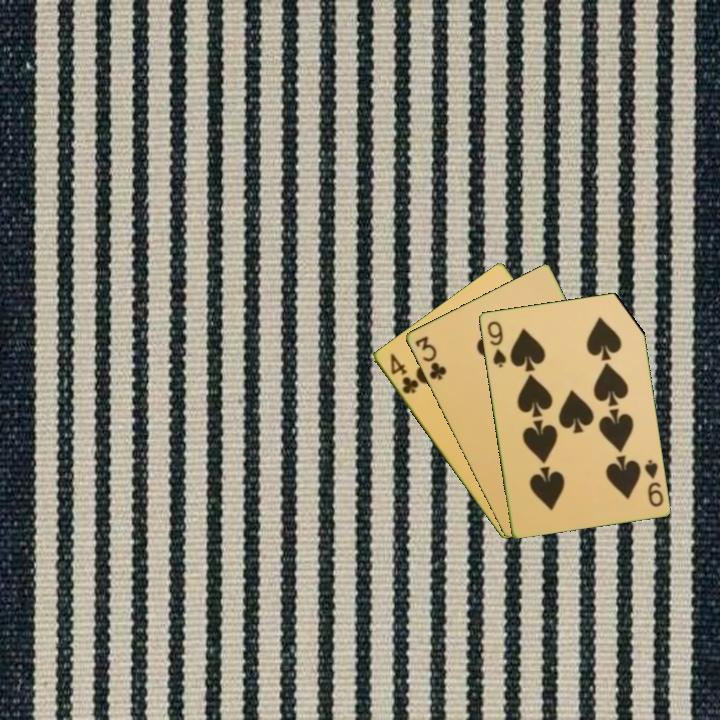3c: (411, 332, 449, 383)
4c: (386, 350, 421, 397)
9s: (483, 317, 509, 370), (640, 456, 666, 509)
